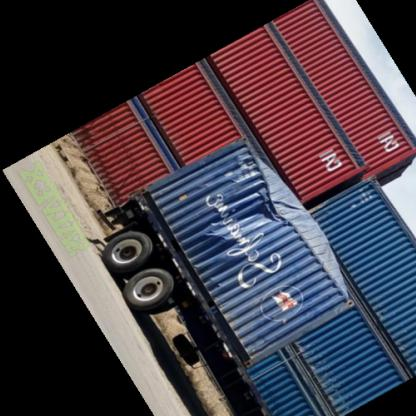Damage: (199, 167, 347, 307)
